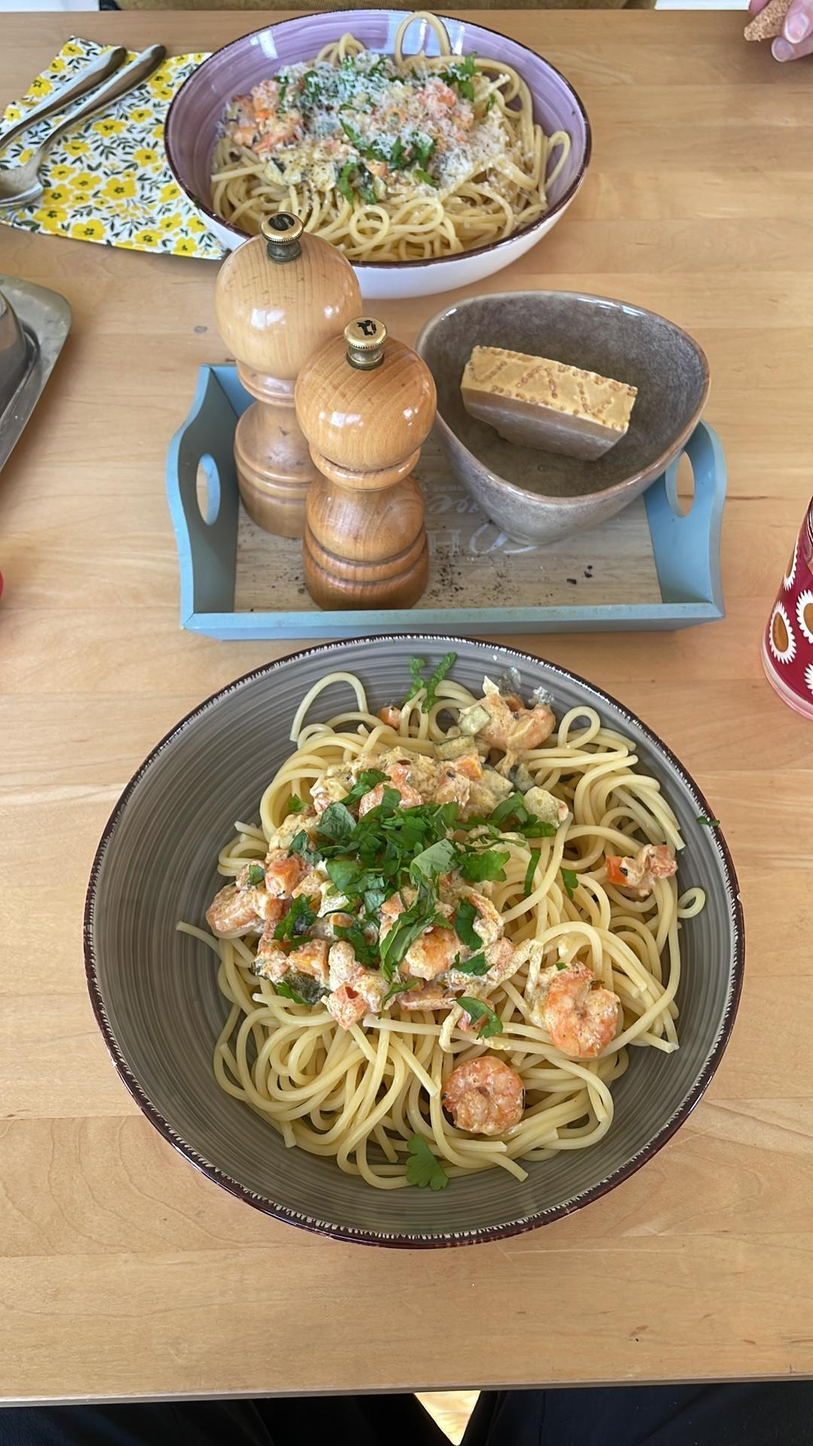lettuce: (315, 798, 457, 892)
